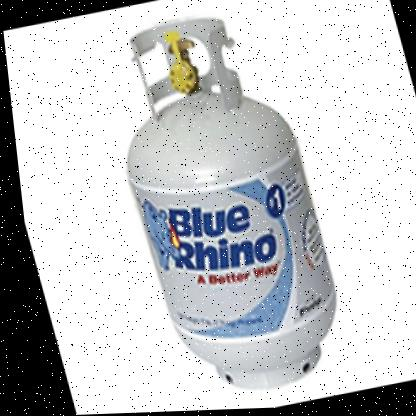gas-tank: (66, 0, 364, 413)
